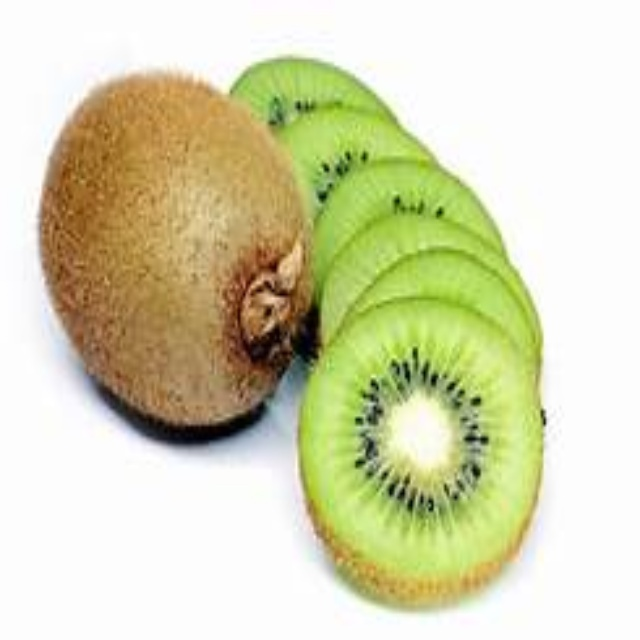kiwi: (288, 70, 543, 614), (40, 73, 312, 428)
